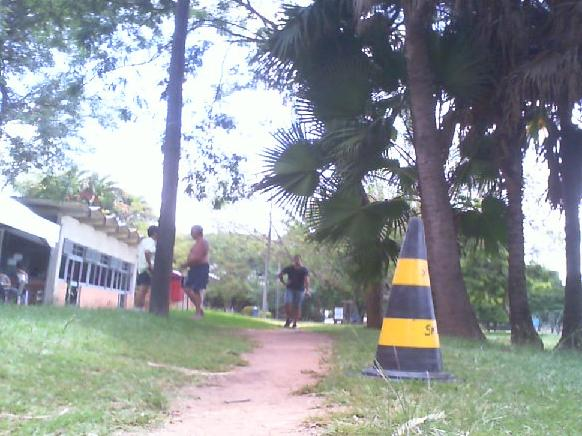0 cone: (343, 217, 465, 383)
